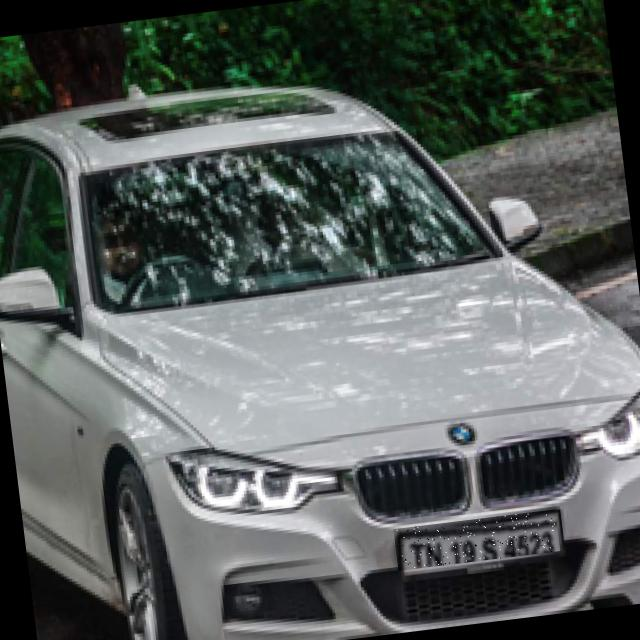Plate: (394, 510, 561, 572)
